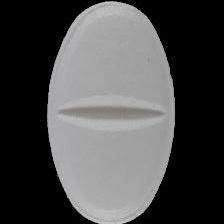55111-466: (0, 0, 224, 224)
